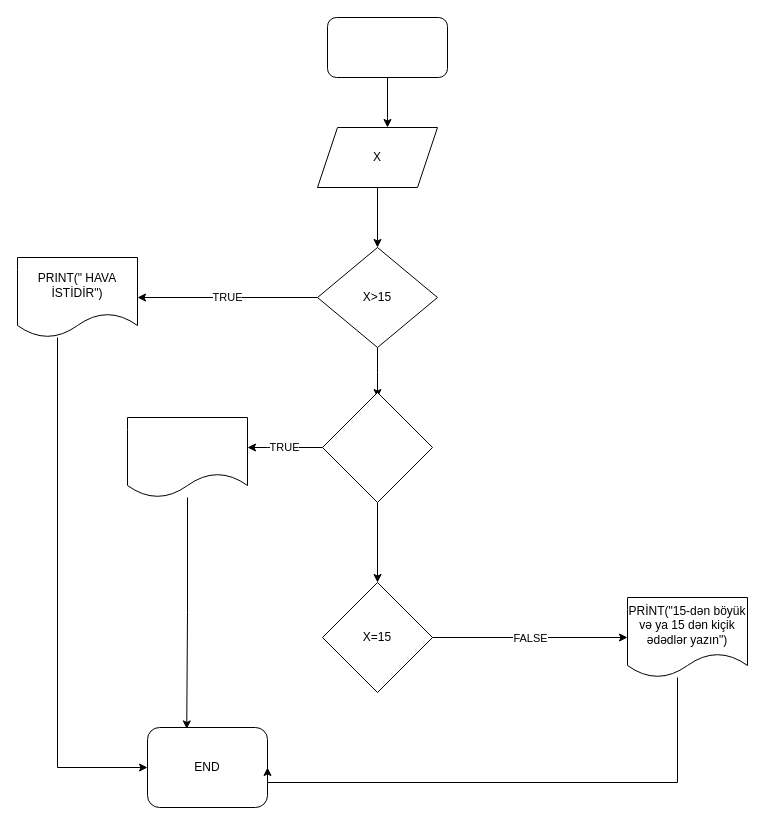
This 765x825 diagram has some shape labels left out. Each missing label, with the centre of its shape:
PRINT("HAVA SOYUQDUR"): the point at 187,457
Start: the point at 387,47
X<15: the point at 377,447
